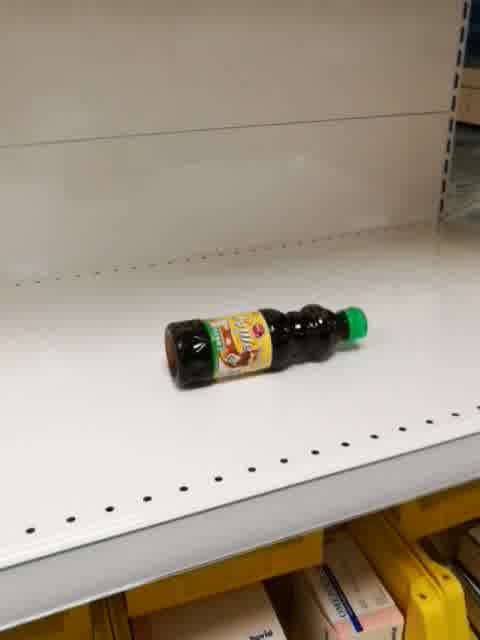cookingoil: (161, 301, 369, 391)
